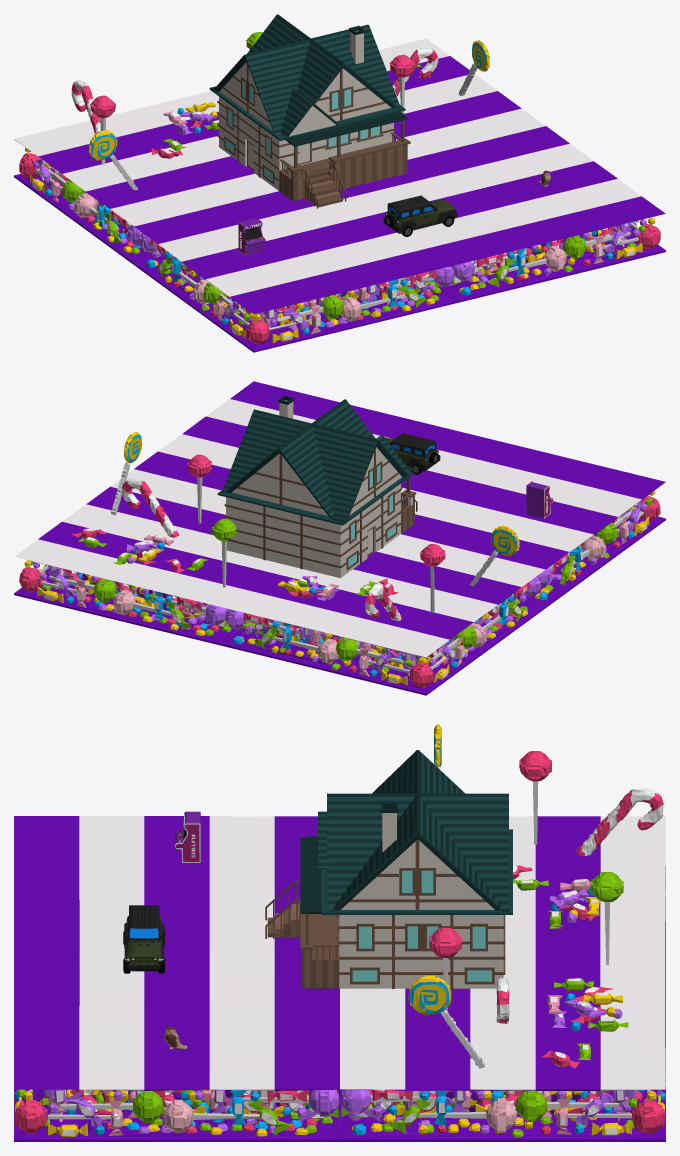
3 views of the same model, one above another, from view 1: azimuth 30°, elevation 25°; view 2: azimuth 150°, elevation 25°; view 3: azimuth 270°, elevation 25° (orthographic). The views are drawn at different scales.
Visible parts, largest first — view 1: TERRAIN_CANDY, Cube.793, VEHICLES_JEEP, OBJRANDOM_ARCADE; view 2: TERRAIN_CANDY, Cube.793, VEHICLES_JEEP, OBJRANDOM_ARCADE; view 3: TERRAIN_CANDY, Cube.793, VEHICLES_JEEP, OBJRANDOM_ARCADE.
Part boxes in pixels (x1,y1,x2,y2): TERRAIN_CANDY: (14,31,665,352); Cube.793: (209,14,410,208); VEHICLES_JEEP: (383,195,457,236); OBJRANDOM_ARCADE: (238,217,265,255); TERRAIN_CANDY: (14,381,665,695); Cube.793: (217,395,417,578); VEHICLES_JEEP: (385,433,440,474); OBJRANDOM_ARCADE: (526,481,553,518); TERRAIN_CANDY: (14,724,665,1141); Cube.793: (265,750,512,988); VEHICLES_JEEP: (123,905,164,973); OBJRANDOM_ARCADE: (175,811,200,862).
Bounding box in the file's own units: 4059 × 1736 × 4000.
29 materials, 3 textured.
